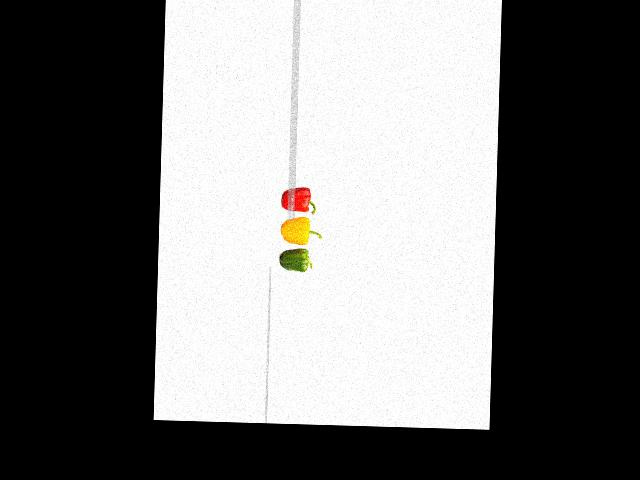bell_pepper: (276, 248, 318, 275)
